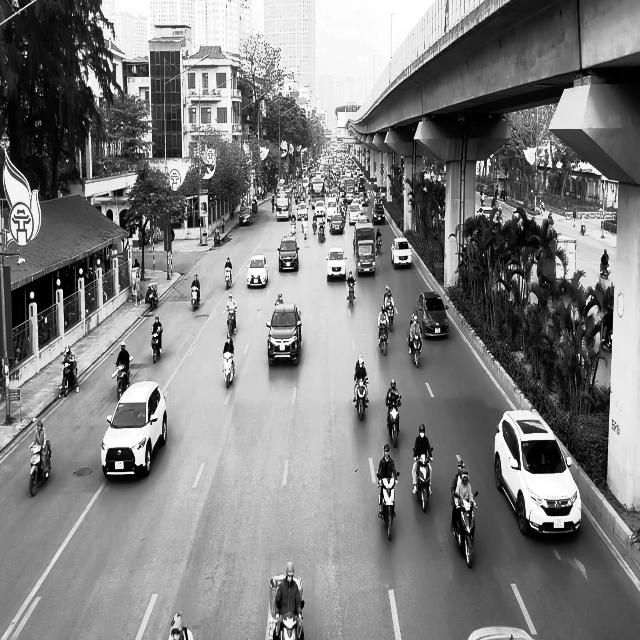car: (494, 409, 582, 536), (101, 380, 167, 478), (266, 304, 302, 366), (416, 291, 449, 339), (278, 236, 300, 272), (326, 246, 348, 281), (246, 254, 268, 288), (391, 236, 412, 268), (239, 206, 252, 226)
motorbike: (450, 491, 478, 568), (377, 473, 399, 540), (412, 446, 433, 513), (28, 439, 52, 497), (58, 361, 79, 398), (386, 396, 401, 447), (112, 363, 130, 401), (353, 377, 368, 421), (408, 331, 422, 367), (222, 350, 235, 388), (150, 328, 162, 363), (378, 323, 389, 355), (346, 278, 355, 306), (227, 308, 236, 336), (148, 285, 158, 309), (191, 287, 200, 311), (224, 266, 232, 289), (600, 260, 610, 278), (375, 236, 382, 255)
